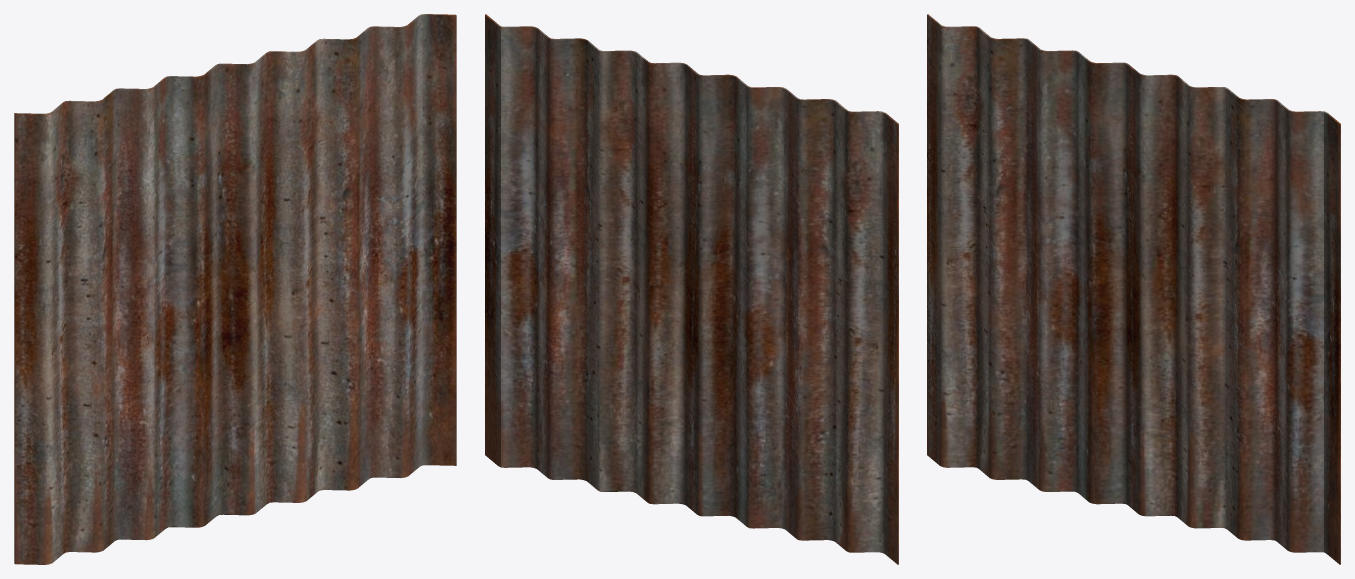
File: metal_sheet.glb
3 views of the same model, side by side, from view 1: azimuth 30°, elevation 25°; view 2: azimuth 150°, elevation 25°; view 3: azimuth 330°, elevation 25° (orthographic). The views are drawn at different scales.
Parts seen in each view (by area): view 1: metal_sheet; view 2: metal_sheet; view 3: metal_sheet.
Part boxes in pixels (x1=…): metal_sheet: x1=14, y1=14, x2=456, y2=564; metal_sheet: x1=485, y1=14, x2=898, y2=564; metal_sheet: x1=927, y1=14, x2=1340, y2=564.
Size of what is drawn, in the model's own units: 0.6 by 0.5978 by 0.0254.
Materials: 1 (1 with a texture image).
